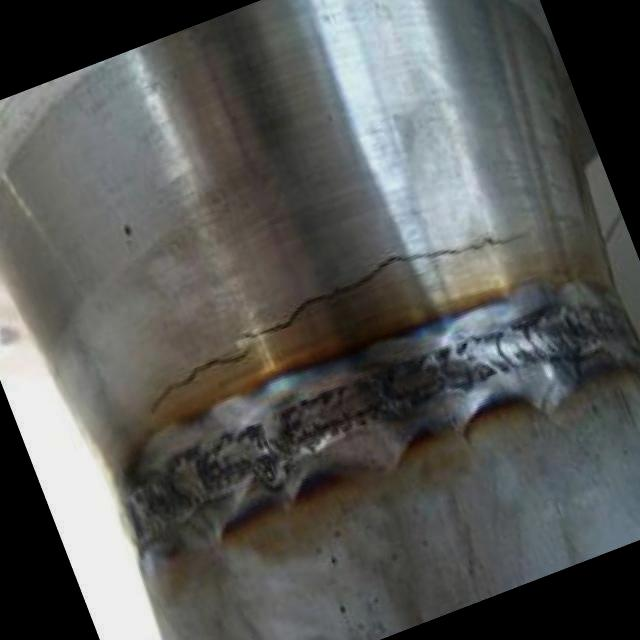defect: (139, 227, 540, 425)
